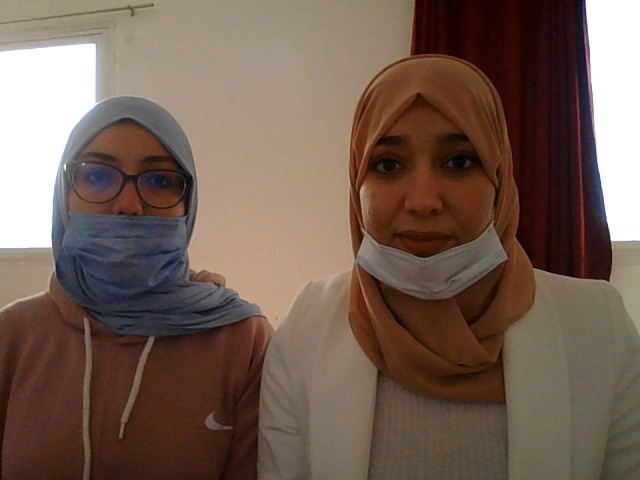mask_weared_incorrect: (341, 118, 516, 300), (60, 148, 192, 297)
